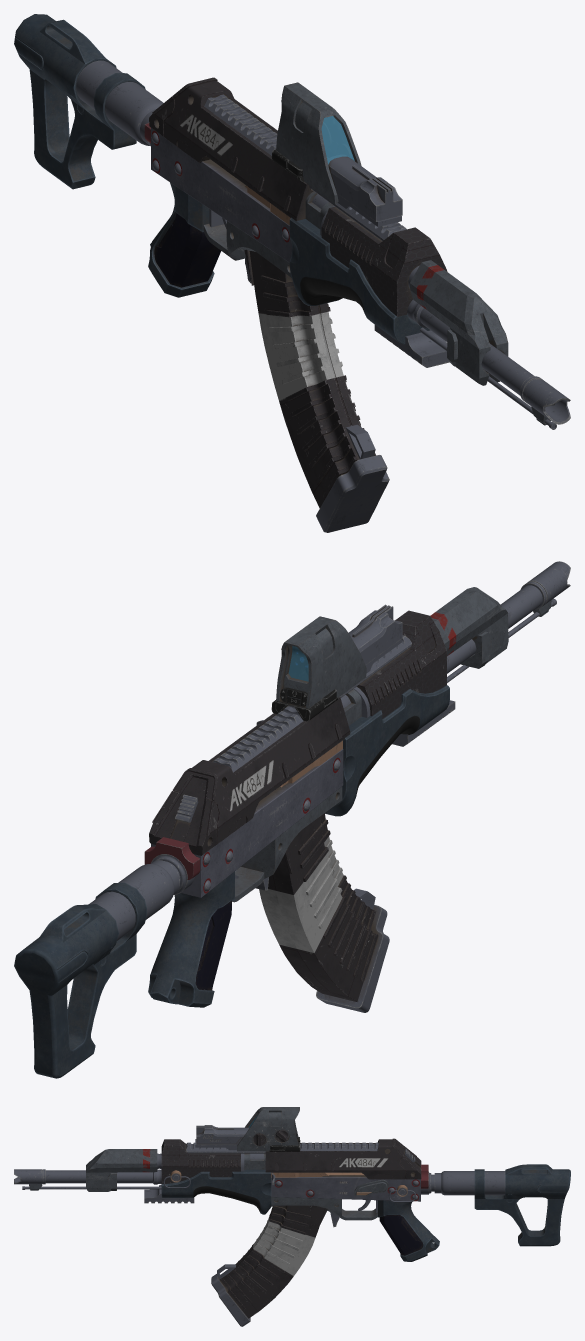
3 renders of one model, top to bottom at view 1: azimuth 30°, elevation 25°; view 2: azimuth 150°, elevation 25°; view 3: azimuth 270°, elevation 25°, orthographic. The views are drawn at different scales.
Visible parts, largest first — view 1: Cube.013_low, Cylinder.005_low, Cube.003_low, Cube_low, Cube.004_low, Cube.006_low, Cube.037_low, Cube.008_low, Cube.011_low, Cylinder.002_low, Cylinder.004_low, Cube.034_low (+4 smaller); view 2: Cube.013_low, Cylinder.005_low, Cube.003_low, Cube.011_low, Cube.004_low, Cube.037_low, Cube.006_low, Cube_low, Cube.008_low, Cylinder.004_low, Cylinder.002_low, Cube.036_low (+4 smaller); view 3: Cube.013_low, Cylinder.005_low, Cube.003_low, Cube.004_low, Cube.006_low, Cube.011_low, Cube_low, Cube.008_low, Cube.037_low, Cylinder.004_low, Cylinder.002_low, Cube.036_low (+7 smaller).
Part boxes in pixels (left/top/right/bottom): Cube.013_low: left=244, top=249, right=389, bottom=532; Cylinder.005_low: left=14, top=14, right=145, bottom=189; Cube.003_low: left=149, top=77, right=313, bottom=221; Cube_low: left=321, top=207, right=446, bottom=316; Cube.004_low: left=151, top=128, right=292, bottom=262; Cube.006_low: left=289, top=217, right=430, bottom=344; Cube.037_low: left=276, top=82, right=361, bottom=204; Cube.008_low: left=409, top=260, right=508, bottom=385; Cube.011_low: left=148, top=182, right=220, bottom=297; Cylinder.002_low: left=407, top=299, right=570, bottom=424; Cylinder.004_low: left=76, top=60, right=163, bottom=146; Cube.034_low: left=328, top=155, right=402, bottom=221; Cube.013_low: left=259, top=812, right=389, bottom=1012; Cylinder.005_low: left=14, top=882, right=146, bottom=1078; Cube.003_low: left=149, top=697, right=350, bottom=855; Cube.011_low: left=148, top=871, right=234, bottom=1007; Cube.004_low: left=151, top=749, right=343, bottom=897; Cube.037_low: left=276, top=616, right=366, bottom=708; Cube.006_low: left=325, top=685, right=449, bottom=816; Cube_low: left=357, top=610, right=446, bottom=718; Cube.008_low: left=430, top=587, right=508, bottom=663; Cylinder.004_low: left=89, top=854, right=194, bottom=940; Cylinder.002_low: left=447, top=561, right=570, bottom=673; Cube.036_low: left=213, top=635, right=411, bottom=772; Cube.013_low: left=211, top=1205, right=327, bottom=1326; Cylinder.005_low: left=474, top=1164, right=570, bottom=1246; Cube.003_low: left=265, top=1138, right=421, bottom=1179; Cube.004_low: left=271, top=1175, right=420, bottom=1201; Cube.006_low: left=161, top=1169, right=271, bottom=1214; Cube.011_low: left=378, top=1200, right=439, bottom=1261; Cube_low: left=161, top=1139, right=240, bottom=1183; Cube.008_low: left=86, top=1149, right=157, bottom=1191; Cube.037_low: left=237, top=1107, right=299, bottom=1151; Cylinder.004_low: left=421, top=1171, right=505, bottom=1195; Cylinder.002_low: left=14, top=1169, right=161, bottom=1184; Cube.036_low: left=186, top=1142, right=378, bottom=1153.
Size of the model in its own units: 0.3404 by 1.51 by 3.57.
3 materials, 3 textured.
